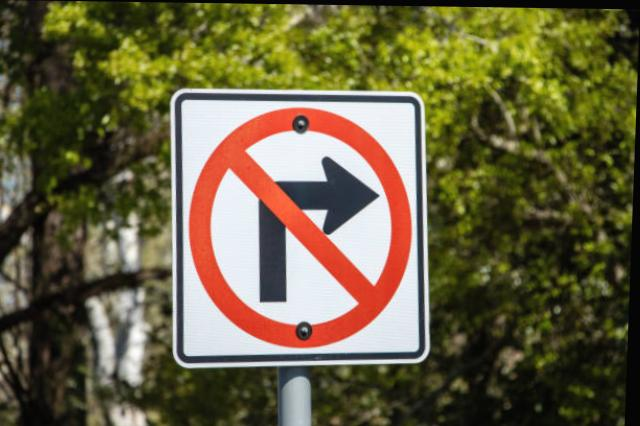not_turn_right: (177, 104, 424, 349)
